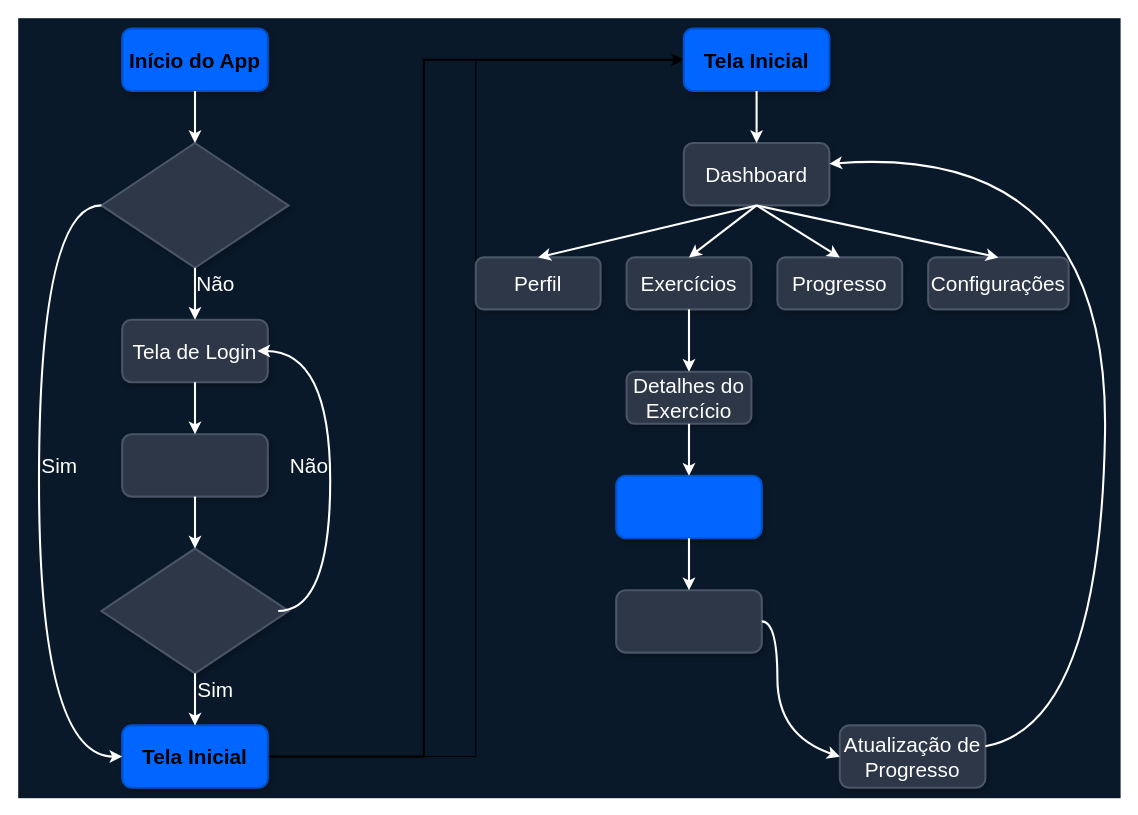
Some shapes in this 1138 by 815 pixel diagram are drawn without their labels. Here are the shapes that lost their labels. From the top down, the centre of each, then its label:
At (x=195, y=206): "Autenticado?".
At (x=195, y=466): "Login OAuth".
At (x=689, y=508): "Tela de Treino".
At (x=195, y=612): "Login com Sucesso?".
At (x=689, y=622): "Treino Completo".
